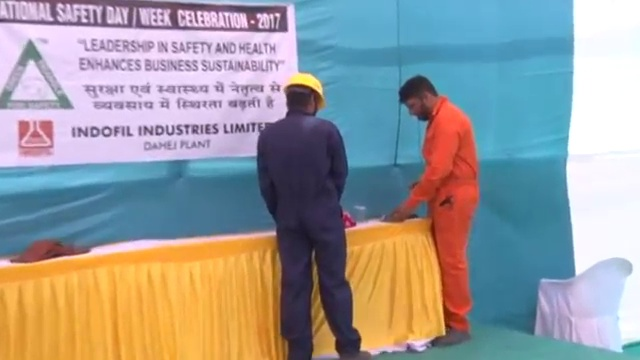helmet: (280, 70, 327, 109)
helmet_off: (397, 74, 441, 123)
helmet_on: (278, 69, 327, 119)
person: (254, 69, 372, 360), (387, 73, 480, 348)
